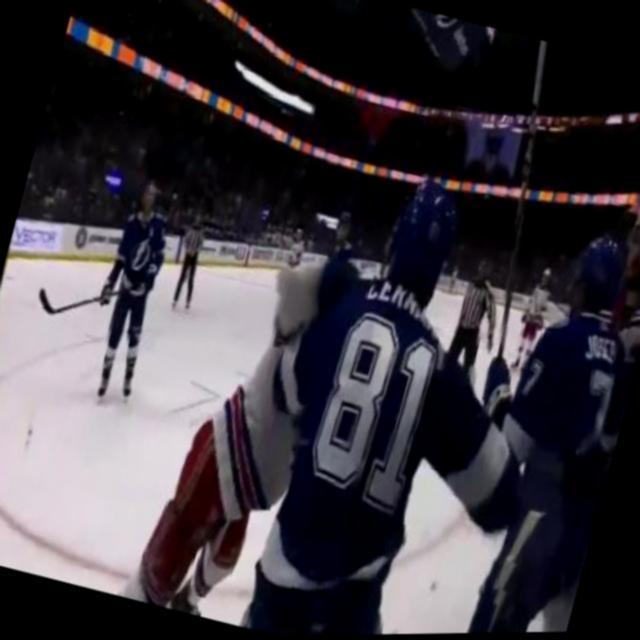fight: (126, 127, 598, 638)
